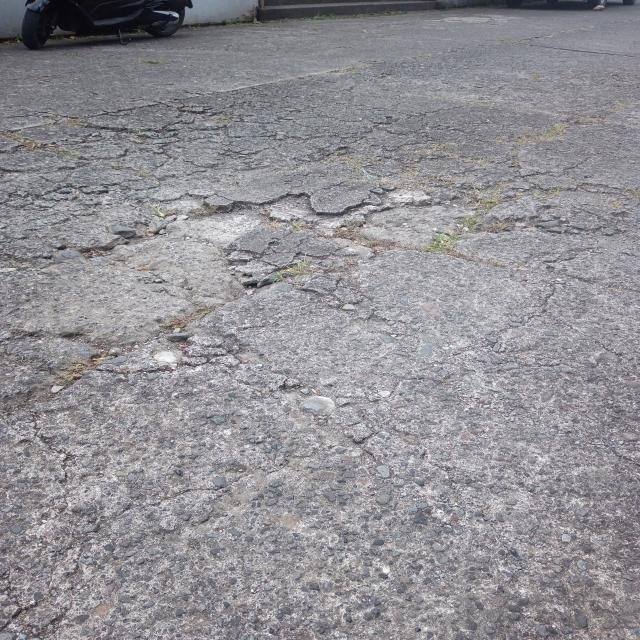pothole: (84, 128, 541, 446)
